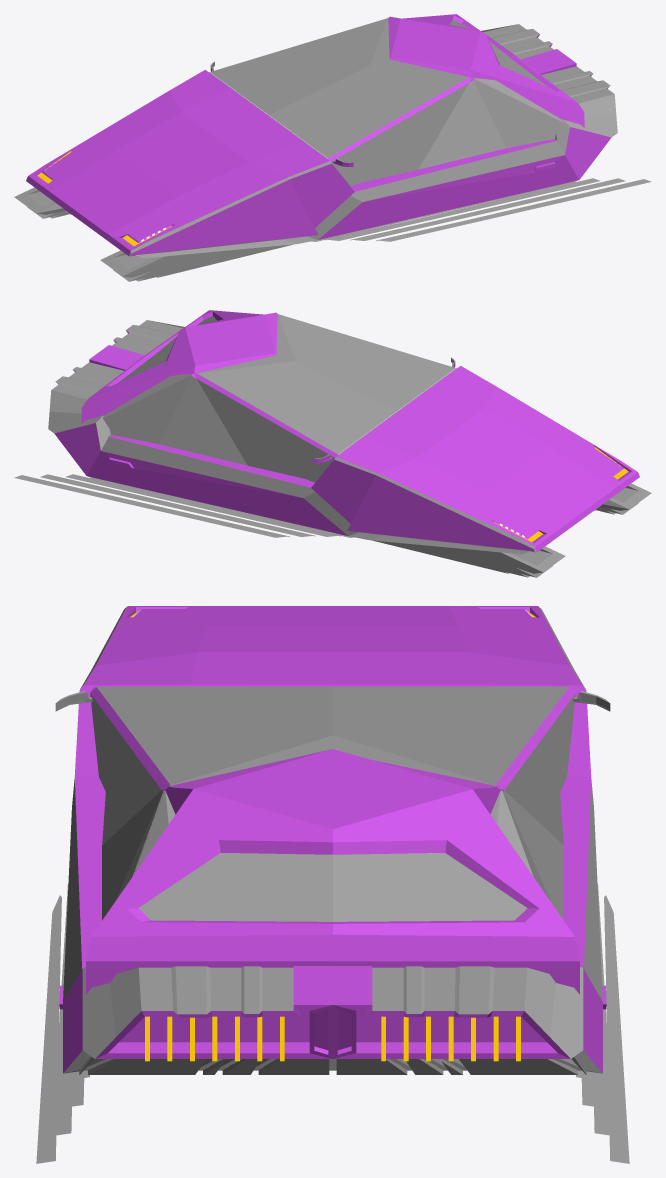
File: hovercar.glb
3 views of the same model, one above another, from view 1: azimuth 30°, elevation 25°; view 2: azimuth 150°, elevation 25°; view 3: azimuth 270°, elevation 25° (orthographic). The views are drawn at different scales.
Visible parts, largest first — view 1: Plane_2, Plane.001_3, Plane.002_4; view 2: Plane_2, Plane.001_3, Plane.002_4; view 3: Plane.001_3, Plane_2, Plane.004_9, Plane.003_10.
Part boxes in pixels (<box>): Plane_2: <box>26,24,651,258</box>; Plane.001_3: <box>209,14,584,186</box>; Plane.002_4: <box>14,187,293,281</box>; Plane_2: <box>14,320,639,554</box>; Plane.001_3: <box>81,310,456,482</box>; Plane.002_4: <box>372,483,651,577</box>; Plane.001_3: <box>86,686,579,994</box>; Plane_2: <box>36,606,629,1163</box>; Plane.004_9: <box>145,1016,520,1061</box>; Plane.003_10: <box>55,691,610,711</box>.
Bounding box in the file's own units: 11.95 × 2.85 × 6.03.
